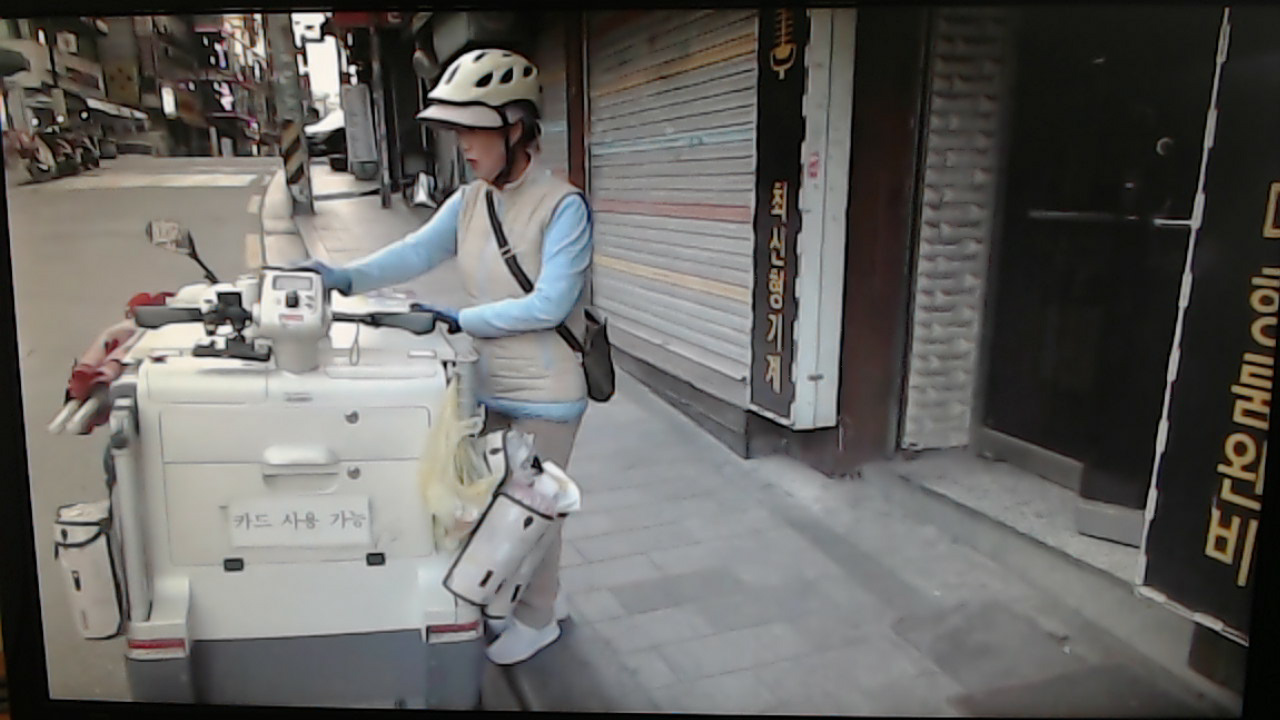Yakurut: (269, 49, 602, 698)
